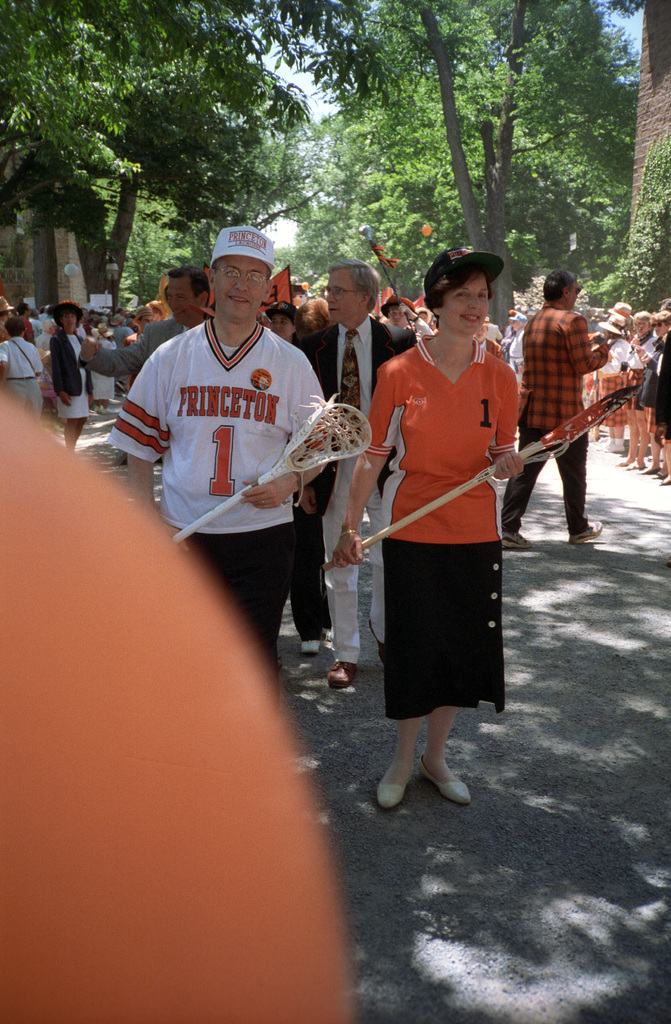Tree: (0, 0, 637, 303), (340, 0, 630, 318)
